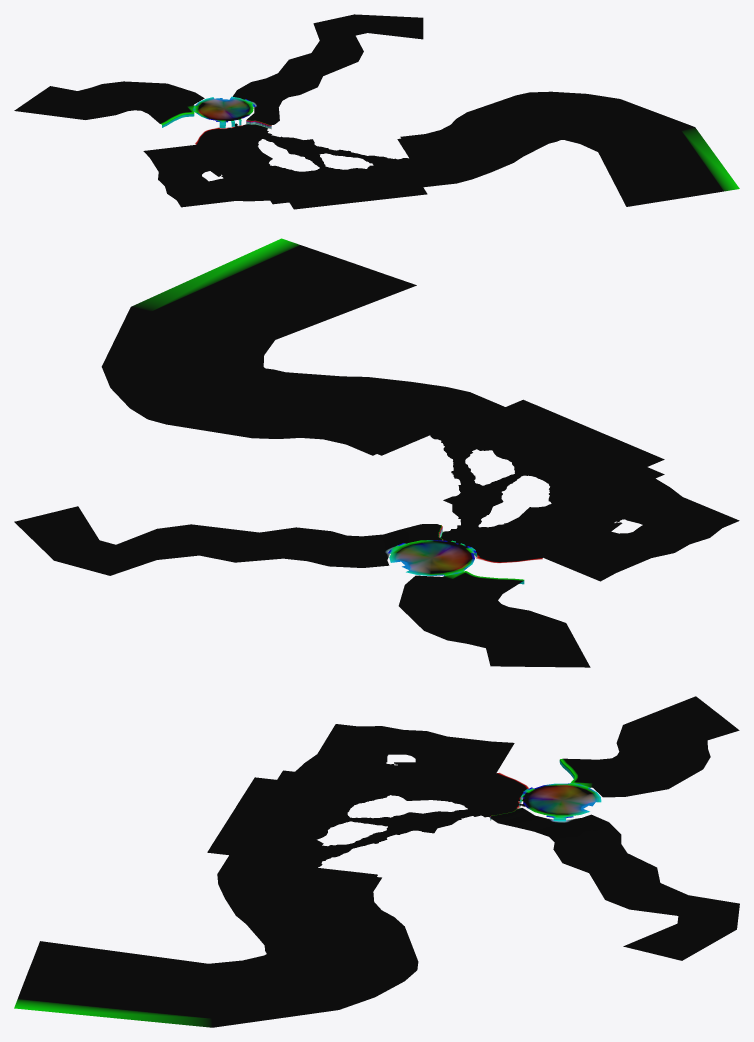
3 views of the same model, one above another, from view 1: azimuth 30°, elevation 25°; view 2: azimuth 150°, elevation 25°; view 3: azimuth 270°, elevation 25° (orthographic). The views are drawn at different scales.
Parts seen in each view (by area): view 1: G:\FFXIV-MapTools\exports\e3ec\bg\ex2\02_est_e3\evt\e3ea\bgp (×2); view 2: G:\FFXIV-MapTools\exports\e3ec\bg\ex2\02_est_e3\evt\e3ea\bgp (×2); view 3: G:\FFXIV-MapTools\exports\e3ec\bg\ex2\02_est_e3\evt\e3ea\bgp (×2).
Part boxes in pixels (x1,y1,x2,y2): G:\FFXIV-MapTools\exports\e3ec\bg\ex2\02_est_e3\evt\e3ea\bgp (×2): (14,14,739,209); G:\FFXIV-MapTools\exports\e3ec\bg\ex2\02_est_e3\evt\e3ea\bgp (×2): (14,238,739,667); G:\FFXIV-MapTools\exports\e3ec\bg\ex2\02_est_e3\evt\e3ea\bgp (×2): (14,696,739,1027).
Bounding box in the file's own units: 6657 × 75.36 × 6292.
